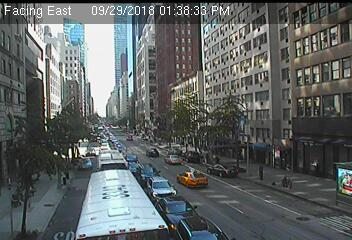car: (76, 169, 170, 240), (154, 196, 203, 229), (171, 218, 230, 240), (145, 177, 177, 203), (97, 150, 126, 176), (177, 171, 208, 189), (207, 163, 237, 179), (137, 164, 159, 184), (182, 152, 200, 164), (127, 160, 142, 174), (79, 157, 93, 170), (123, 153, 138, 165), (164, 155, 181, 165), (146, 148, 158, 158), (167, 148, 181, 156), (85, 149, 95, 157)
